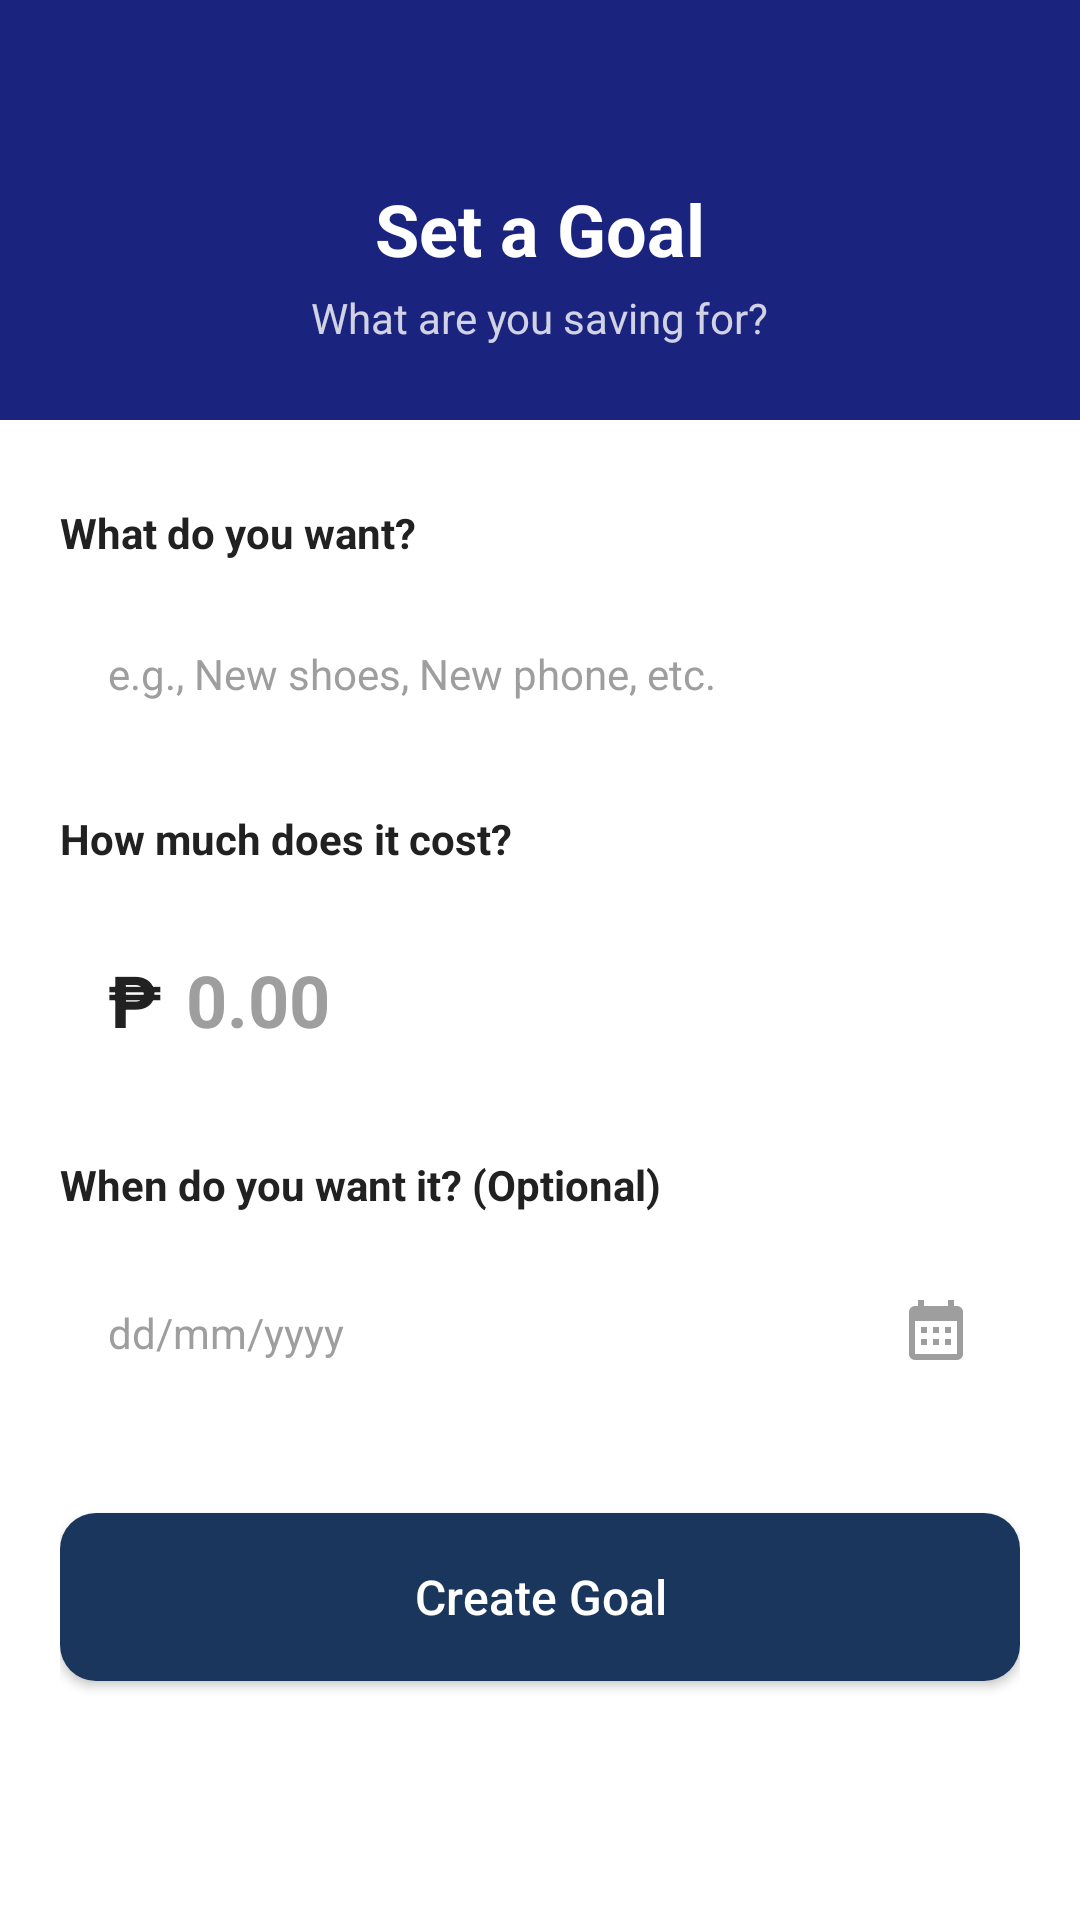

Screen size 1080 × 1920. Icon name, then its center in pixels as (x,y):
Select date: (936,1330)
